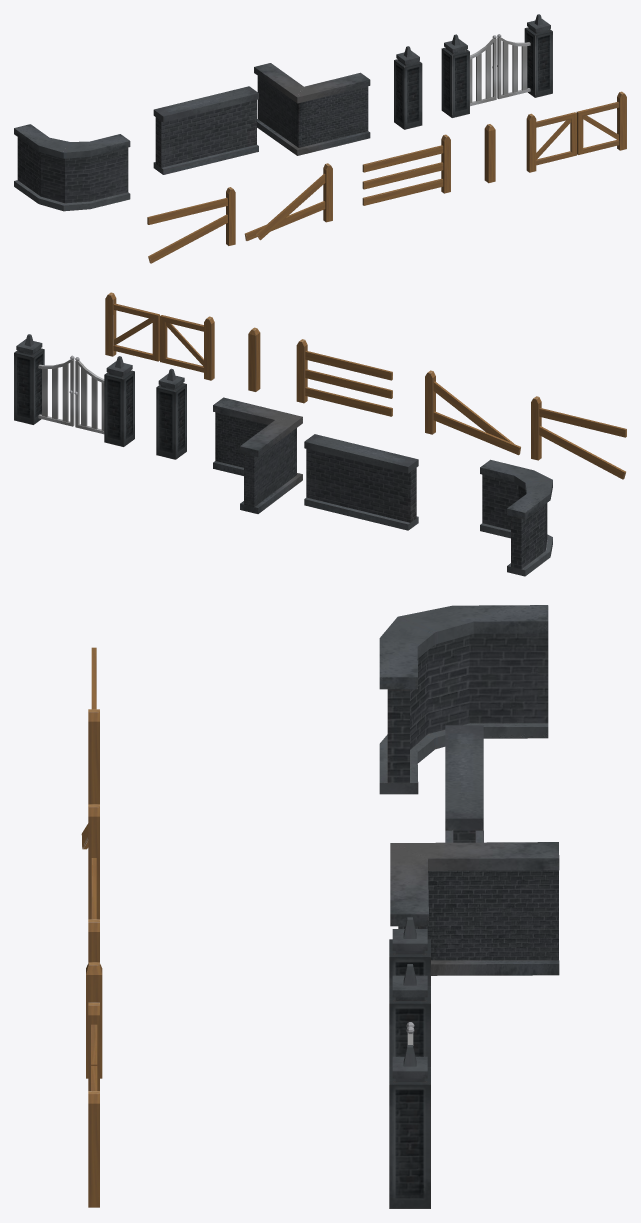
Rendered from pack_cercas.fbx.
3 renders of one model, top to bottom at view 1: azimuth 30°, elevation 25°; view 2: azimuth 150°, elevation 25°; view 3: azimuth 270°, elevation 25°, orthographic. The views are drawn at different scales.
Parts seen in each view (by area): view 1: pedra_arredondado, pedra_quina, pedra_parede, pedra_portao, madeira_porteira, madeira_inteira, pedra_pilar, madeira_quebrada1, madeira_quebrada2, madeira_ripa; view 2: pedra_parede, pedra_portao, pedra_quina, pedra_arredondado, madeira_porteira, madeira_inteira, pedra_pilar, madeira_quebrada1, madeira_quebrada2, madeira_ripa; view 3: pedra_arredondado, pedra_quina, pedra_portao, pedra_parede, madeira_porteira, pedra_pilar, madeira_quebrada1, madeira_quebrada2, madeira_ripa, madeira_inteira.
Boxes of the visible parts, <box> form: pedra_arredondado: <box>14,124,130,211</box>; pedra_quina: <box>254,63,370,155</box>; pedra_parede: <box>153,86,258,174</box>; pedra_portao: <box>441,14,552,117</box>; madeira_porteira: <box>526,91,626,172</box>; madeira_inteira: <box>362,134,450,205</box>; pedra_pilar: <box>394,46,422,129</box>; madeira_quebrada1: <box>147,187,235,263</box>; madeira_quebrada2: <box>244,163,332,240</box>; madeira_ripa: <box>484,124,495,183</box>; pedra_parede: <box>304,434,418,530</box>; pedra_portao: <box>14,334,134,446</box>; pedra_quina: <box>213,397,302,513</box>; pedra_arredondado: <box>480,459,552,576</box>; madeira_porteira: <box>105,292,214,380</box>; madeira_inteira: <box>296,339,392,416</box>; pedra_pilar: <box>156,368,186,459</box>; madeira_quebrada1: <box>531,396,626,479</box>; madeira_quebrada2: <box>425,370,520,455</box>; madeira_ripa: <box>248,327,260,391</box>; pedra_arredondado: <box>379,605,548,794</box>; pedra_quina: <box>390,842,559,975</box>; pedra_portao: <box>389,964,430,1208</box>; pedra_parede: <box>445,725,483,842</box>; madeira_porteira: <box>88,1002,99,1207</box>; pedra_pilar: <box>389,917,430,985</box>; madeira_quebrada1: <box>88,647,99,804</box>; madeira_quebrada2: <box>81,804,99,919</box>; madeira_ripa: <box>86,962,102,1078</box>; madeira_inteira: <box>88,858,99,962</box>.
Size of the model in its own units: 1154 by 171 by 478.
